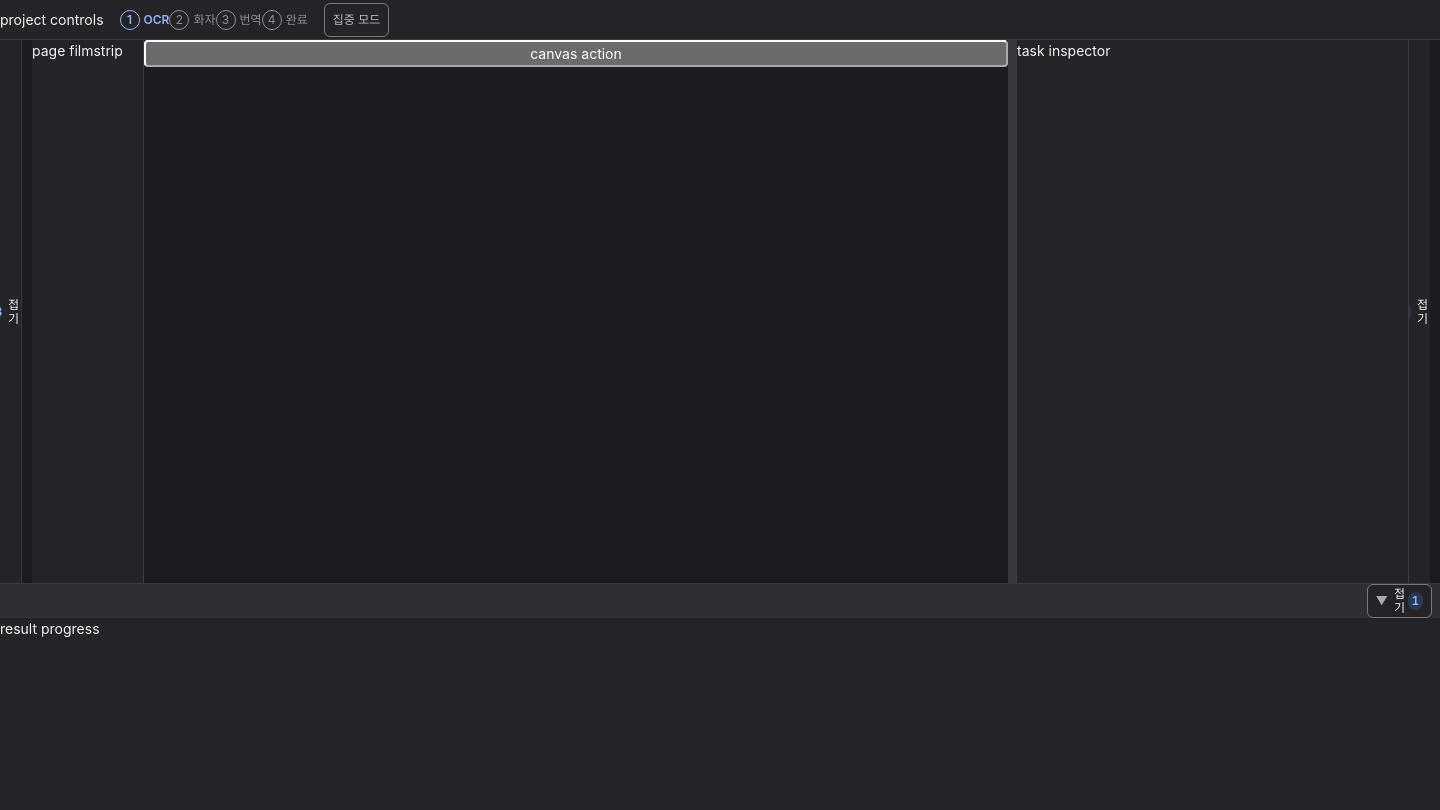
FocusDeckShell › collapses pages, inspector, and results independently
The width and height of the screenshot is (1440, 810).
Step 1. Click the button with aria-label "페이지 목록 접기" → click(10, 312), box [0, 40, 21, 583]
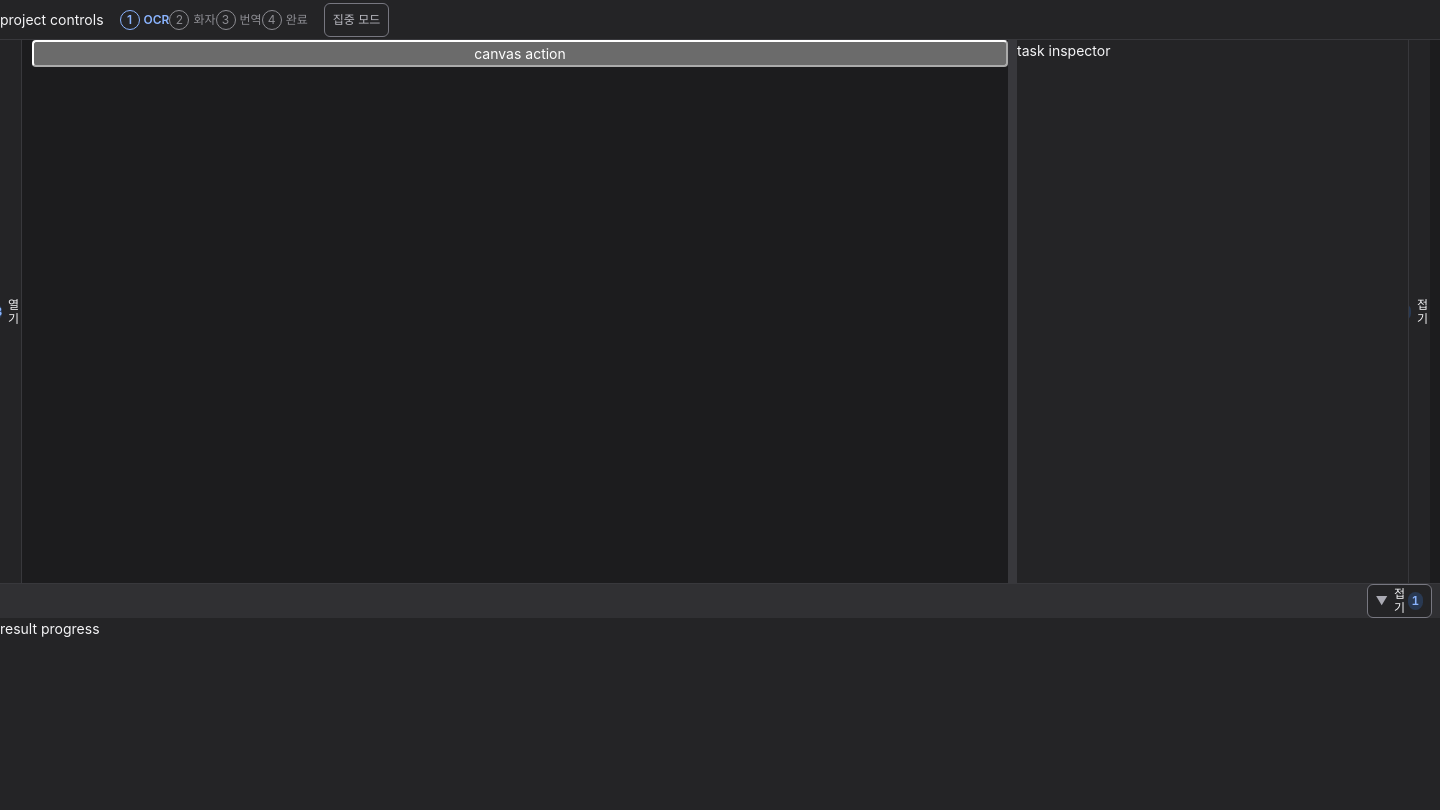
Expected: the text "task inspector" is shown, [1017, 42, 1110, 59]
Result: the text "page filmstrip" is gone
Step 2. Click the button with aria-label "작업 인스펙터 접기" → click(1420, 312), box [1409, 40, 1430, 583]
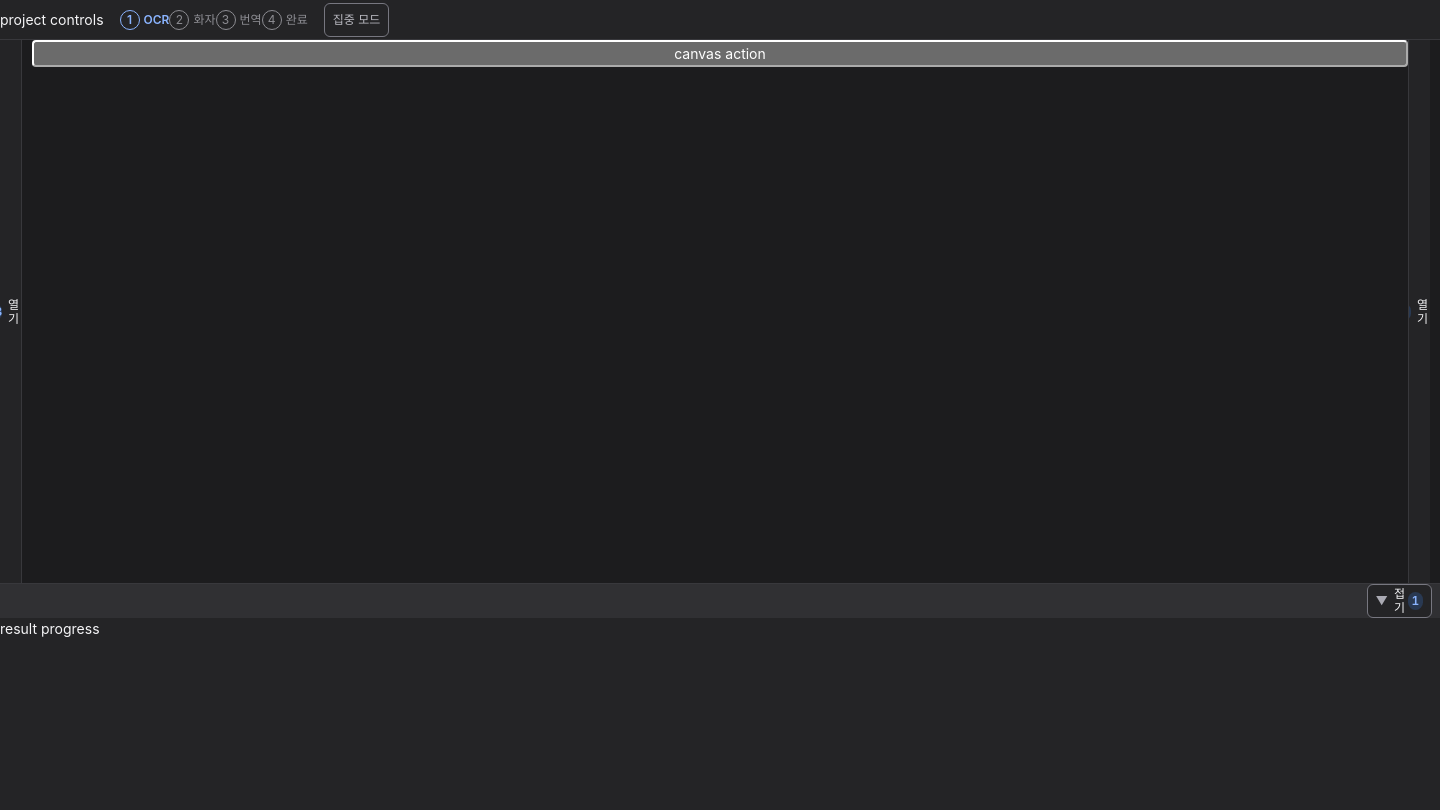
Expected: the text "result progress" is shown, [0, 620, 100, 637]
Result: the text "task inspector" is gone
Step 3. Click the button with aria-label "결과 및 진행 접기" → click(1399, 601), box [1367, 584, 1432, 618]
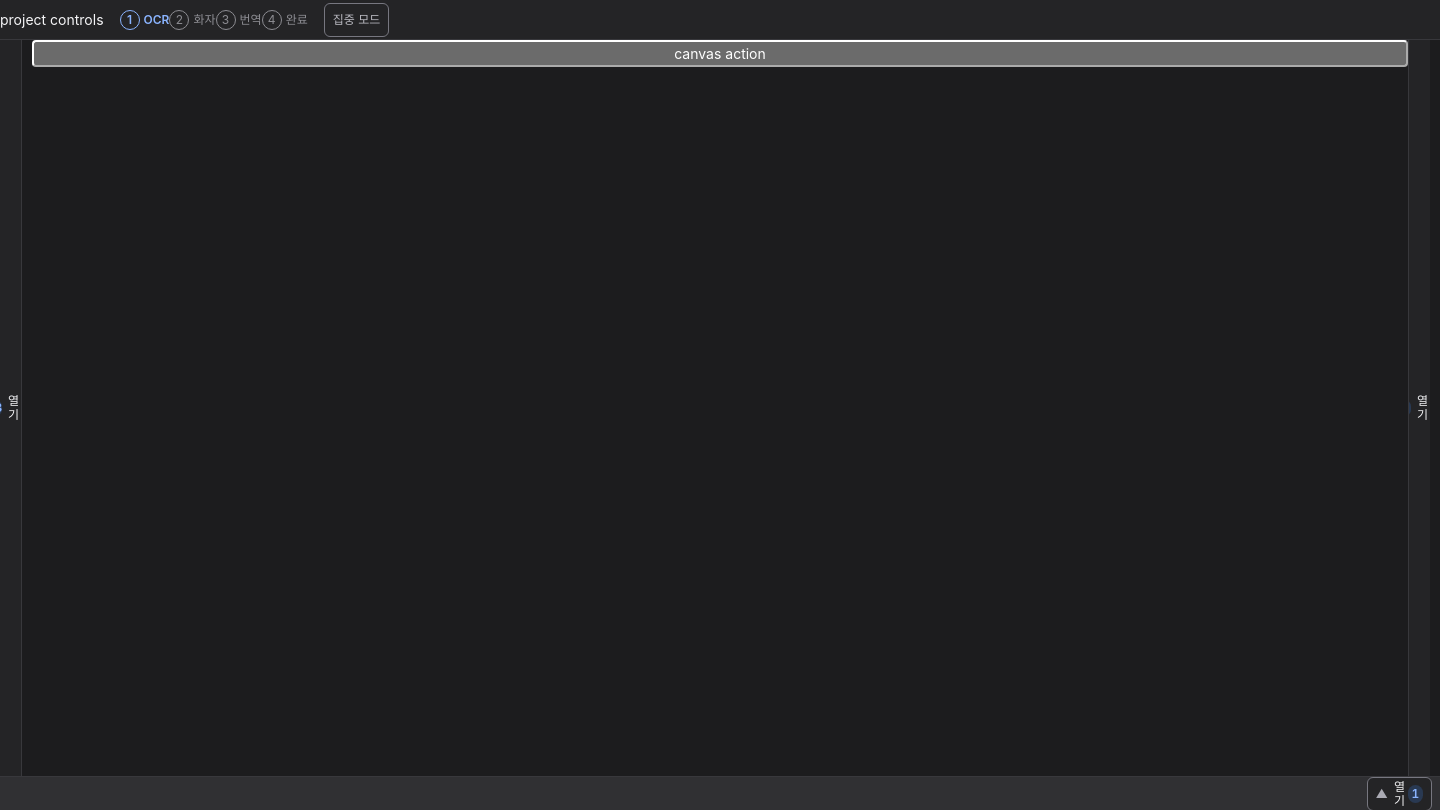
Result: the button with aria-label "페이지 목록 열기" is collapsed at [0, 40, 21, 776]
Result: the button with aria-label "작업 인스펙터 열기" is collapsed at [1409, 40, 1430, 776]
Result: the text "result progress" is gone
